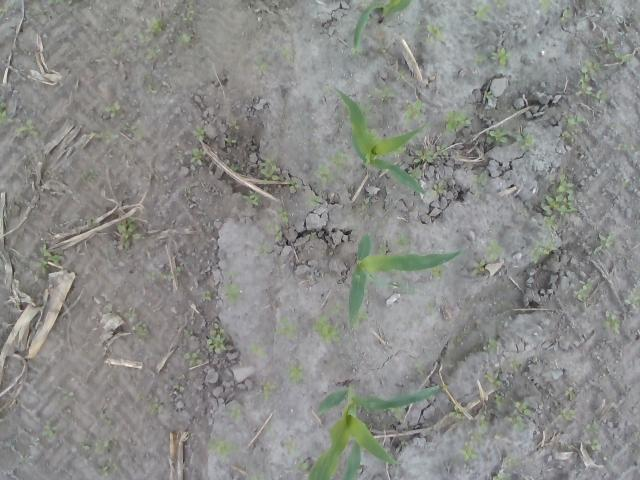Maize: (310, 381, 440, 480), (331, 86, 426, 198), (348, 233, 460, 328), (352, 0, 412, 48)
Weeds: (540, 174, 577, 232), (576, 61, 610, 104), (312, 303, 343, 345), (30, 244, 66, 275), (115, 216, 145, 250), (415, 15, 447, 43), (207, 439, 241, 464), (559, 115, 587, 144), (460, 431, 486, 462), (411, 144, 449, 162), (474, 48, 512, 66), (530, 239, 558, 263), (206, 321, 226, 354), (445, 110, 472, 134), (80, 436, 112, 456), (592, 232, 618, 256), (468, 0, 496, 22), (402, 99, 423, 128), (311, 162, 336, 186), (328, 148, 352, 173), (372, 84, 398, 104), (270, 318, 296, 337), (484, 368, 506, 390), (258, 159, 281, 180), (96, 458, 120, 478), (0, 95, 16, 125), (256, 48, 274, 74), (16, 119, 41, 137), (600, 316, 622, 336), (574, 280, 592, 304), (42, 418, 61, 440), (264, 222, 284, 242), (517, 131, 536, 152), (286, 362, 304, 384), (488, 126, 510, 144), (510, 399, 532, 417), (486, 238, 502, 262), (121, 122, 143, 138), (240, 190, 262, 206), (224, 282, 240, 304), (282, 434, 298, 455), (190, 146, 205, 168), (144, 16, 162, 34), (184, 350, 204, 366), (612, 50, 634, 64), (102, 101, 120, 118), (294, 456, 310, 475), (146, 398, 162, 417), (392, 232, 411, 248), (511, 414, 527, 433), (432, 176, 447, 196), (470, 259, 487, 276), (250, 342, 268, 358), (596, 38, 616, 52), (247, 464, 264, 480), (285, 177, 301, 194), (448, 404, 464, 420), (102, 128, 120, 142), (276, 207, 290, 225), (145, 46, 161, 61), (468, 174, 488, 186), (142, 82, 160, 95), (262, 382, 274, 401), (389, 146, 408, 158), (484, 336, 498, 352), (134, 321, 148, 337), (192, 126, 206, 142), (538, 0, 554, 14), (431, 264, 445, 280), (560, 408, 577, 421), (614, 142, 636, 152), (492, 469, 512, 480), (80, 166, 98, 178), (179, 8, 195, 21), (509, 356, 521, 373), (175, 32, 192, 44), (256, 244, 273, 256), (142, 271, 162, 281), (222, 407, 240, 418), (426, 302, 437, 320), (306, 194, 322, 206), (583, 422, 601, 432), (564, 385, 576, 400), (351, 46, 369, 56), (478, 412, 488, 430), (504, 455, 520, 466), (625, 294, 640, 305), (47, 0, 65, 9), (620, 178, 632, 191), (197, 291, 212, 301), (408, 170, 424, 179), (228, 119, 240, 131), (280, 46, 290, 60), (494, 393, 504, 407), (358, 310, 369, 322), (62, 390, 75, 400), (127, 306, 135, 322), (128, 31, 144, 39), (377, 243, 386, 256), (388, 408, 402, 416), (590, 440, 602, 449), (494, 0, 506, 9), (306, 231, 318, 240), (112, 47, 122, 57), (484, 90, 494, 100), (415, 361, 422, 375), (224, 137, 238, 144), (183, 328, 193, 337), (6, 0, 16, 9), (407, 248, 418, 256), (230, 164, 242, 171), (376, 44, 386, 52), (175, 266, 186, 273), (174, 384, 184, 391), (0, 8, 7, 16), (350, 235, 358, 241)
